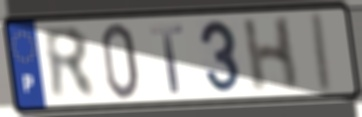0: (99, 20, 142, 102)
3: (196, 17, 245, 96)
H: (240, 14, 301, 96)
I: (311, 9, 335, 95)
R: (39, 24, 100, 103)
T: (148, 22, 186, 95)
